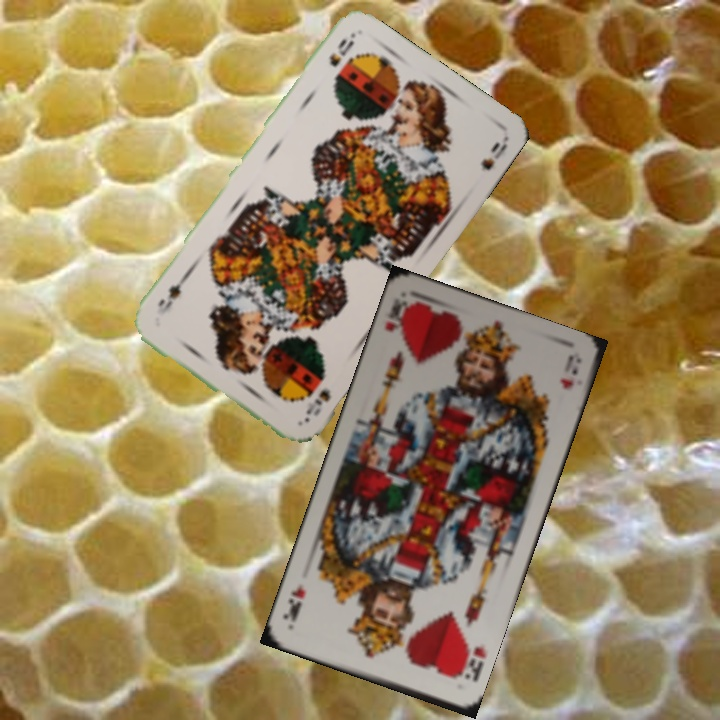HK: (452, 639, 489, 685), (381, 294, 415, 337)
SO: (325, 34, 357, 70), (302, 384, 333, 419)
